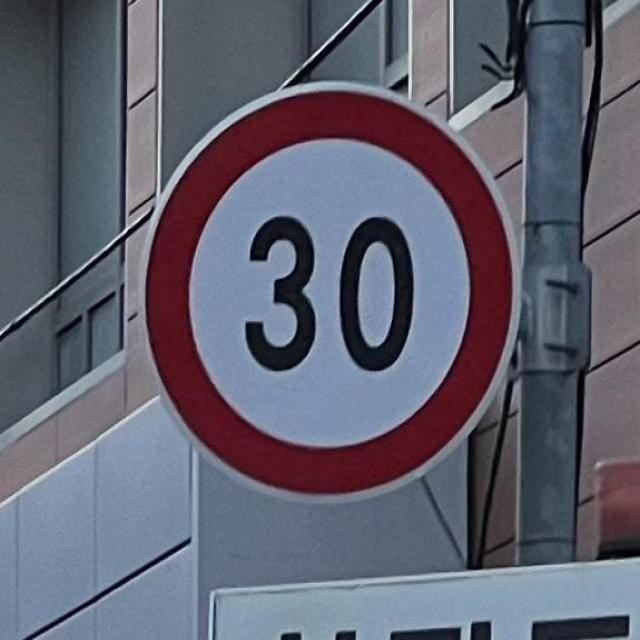speed_limit_30: (139, 80, 514, 505)
